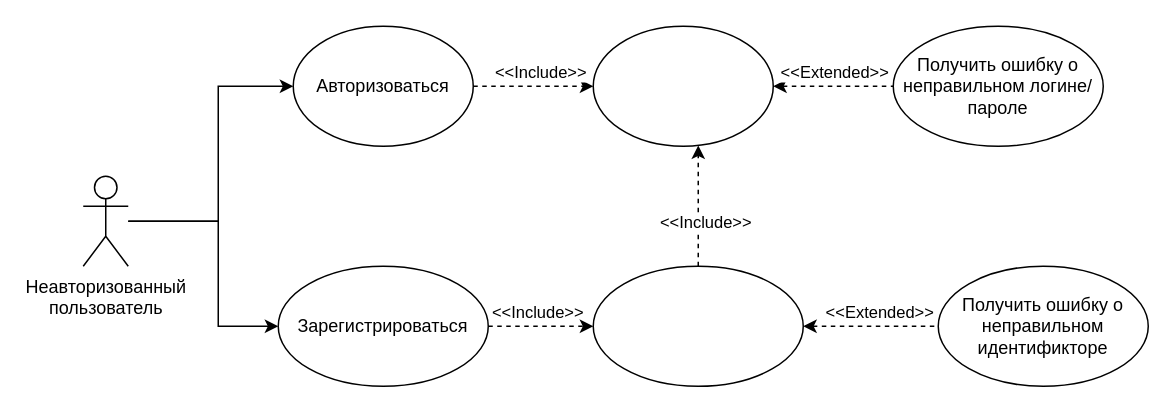
Image size: 1175x413. Some labels were removed from this diagram. Here are the shapes that lost their labels. From the top down, the box of each, then its label:
(592, 25, 773, 146): Ввести логин и пароль
(592, 265, 803, 386): Ввести личный идентификатор
